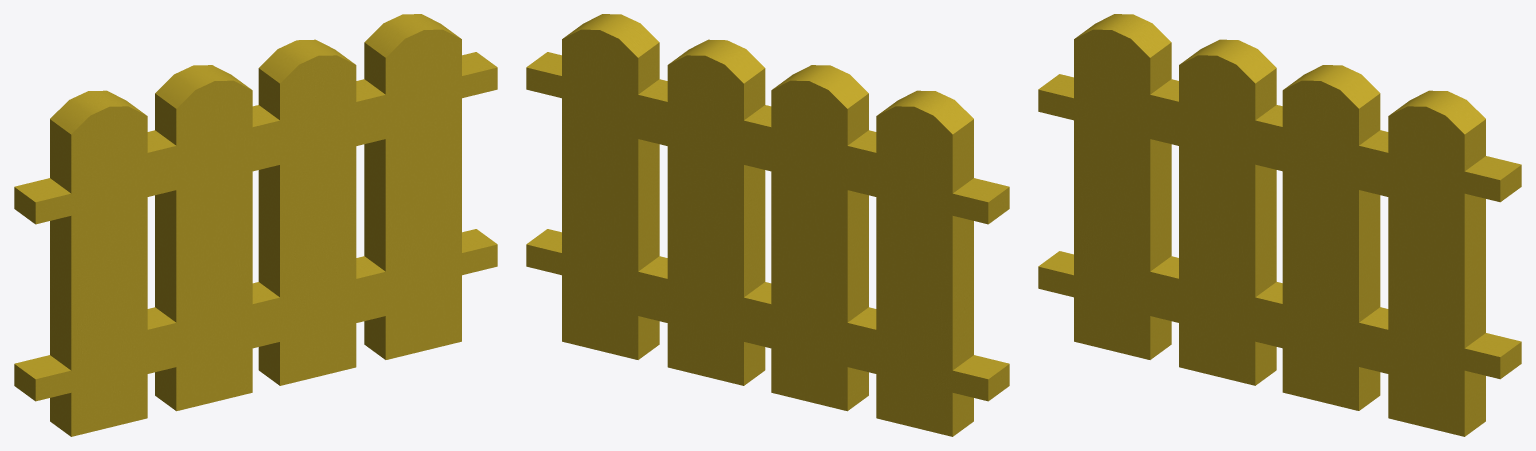
File: Fence_Yellow.glb
The picture shows the model from 3 angles, left to right: view 1: azimuth 30°, elevation 25°; view 2: azimuth 150°, elevation 25°; view 3: azimuth 330°, elevation 25°; orthographic projection.
Parts seen in each view (by area): view 1: fenceHIGH; view 2: fenceHIGH; view 3: fenceHIGH.
Part boxes in pixels (left/top/right/bottom): fenceHIGH: left=14, top=14, right=497, bottom=436; fenceHIGH: left=526, top=14, right=1009, bottom=436; fenceHIGH: left=1038, top=14, right=1521, bottom=436.
Size of the model in its own units: 5.18 by 3.43 by 0.4139.
1 material, 1 textured.
